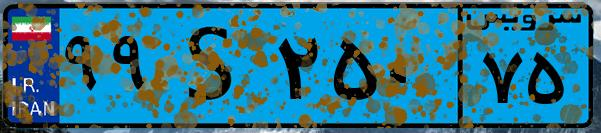0: (385, 28, 445, 110)
2: (270, 28, 330, 110)
5: (330, 28, 385, 110), (525, 38, 570, 115)
7: (475, 38, 525, 113)
9: (57, 26, 110, 100), (110, 28, 158, 98)
S: (158, 12, 270, 120)
